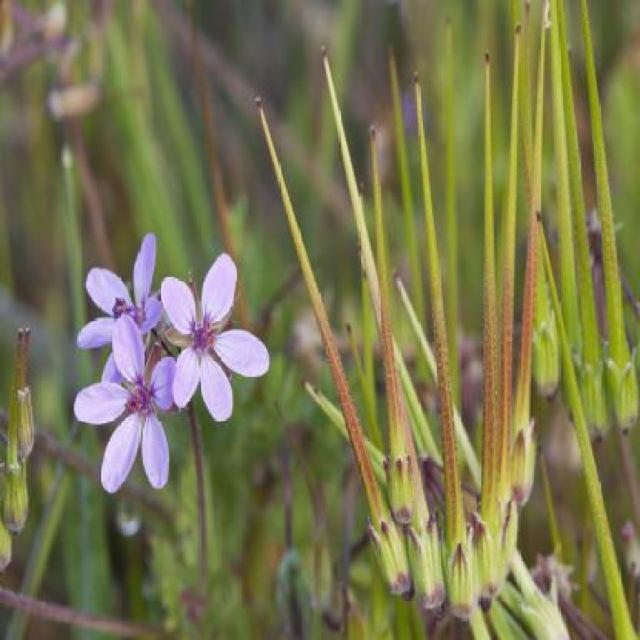flower: (68, 307, 185, 498), (161, 268, 274, 426), (60, 224, 165, 384)
